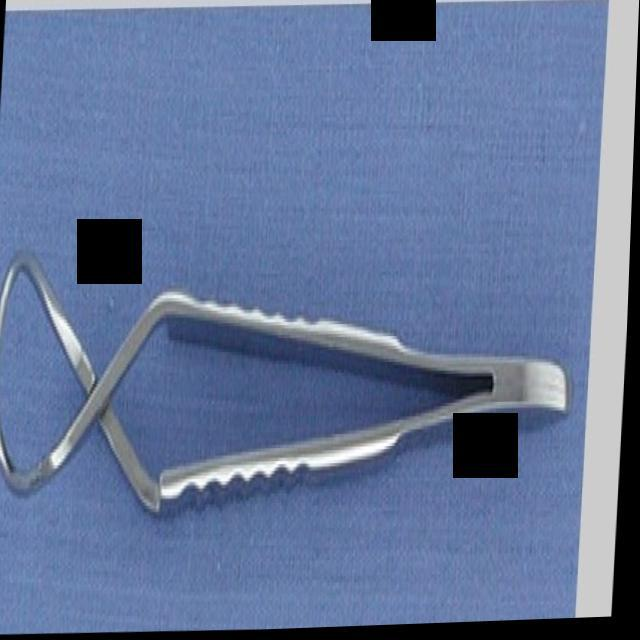Jones Towel Clamp: (0, 211, 584, 551)
